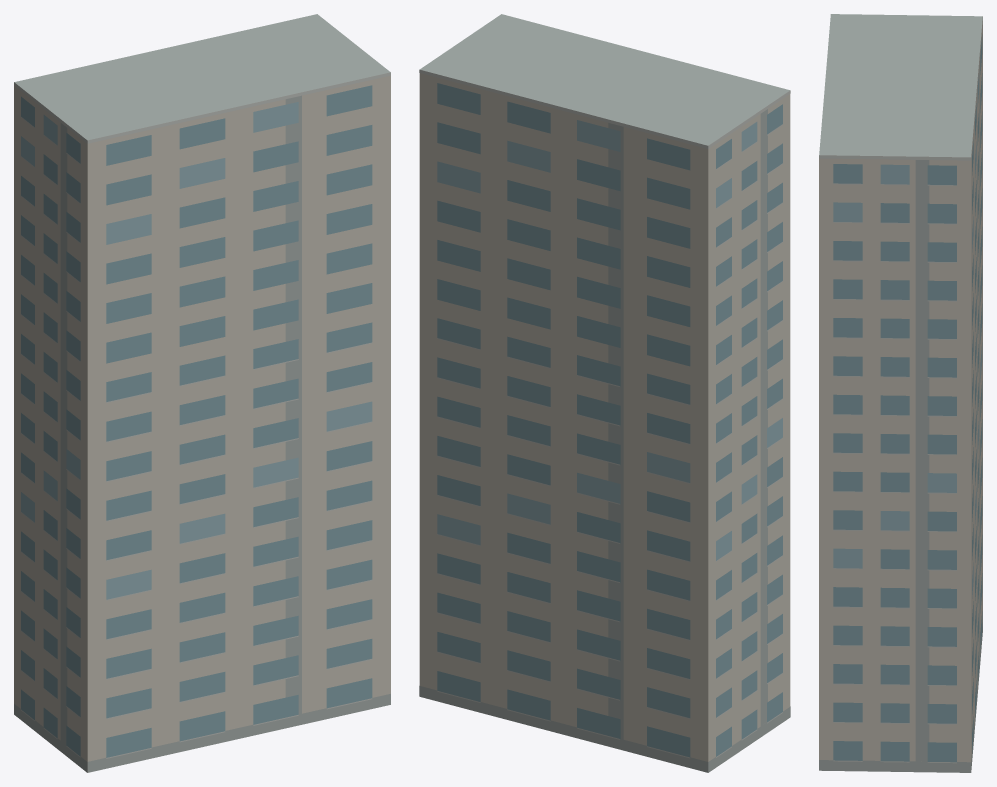
Rendered from residential-5ab5585d-a40f-497e-978e-0e3cf94fd12f.glb.
3 views of the same model, side by side, from view 1: azimuth 30°, elevation 25°; view 2: azimuth 150°, elevation 25°; view 3: azimuth 270°, elevation 25° (orthographic). The views are drawn at different scales.
Visible parts, largest first — view 1: residential-5ab5585d-a40f-497e-978e-0e3cf94fd12f.tmp; view 2: residential-5ab5585d-a40f-497e-978e-0e3cf94fd12f.tmp; view 3: residential-5ab5585d-a40f-497e-978e-0e3cf94fd12f.tmp.
Boxes of the visible parts, bbox=[...] form: residential-5ab5585d-a40f-497e-978e-0e3cf94fd12f.tmp: bbox=[14, 14, 390, 772]; residential-5ab5585d-a40f-497e-978e-0e3cf94fd12f.tmp: bbox=[419, 14, 790, 772]; residential-5ab5585d-a40f-497e-978e-0e3cf94fd12f.tmp: bbox=[819, 14, 982, 772].
Bounding box in the file's own units: 23 × 46 × 11.1.
